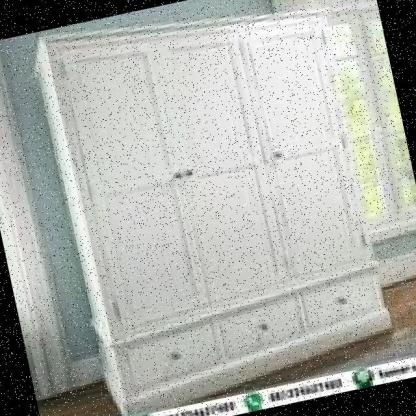Closet: (18, 0, 401, 416)
